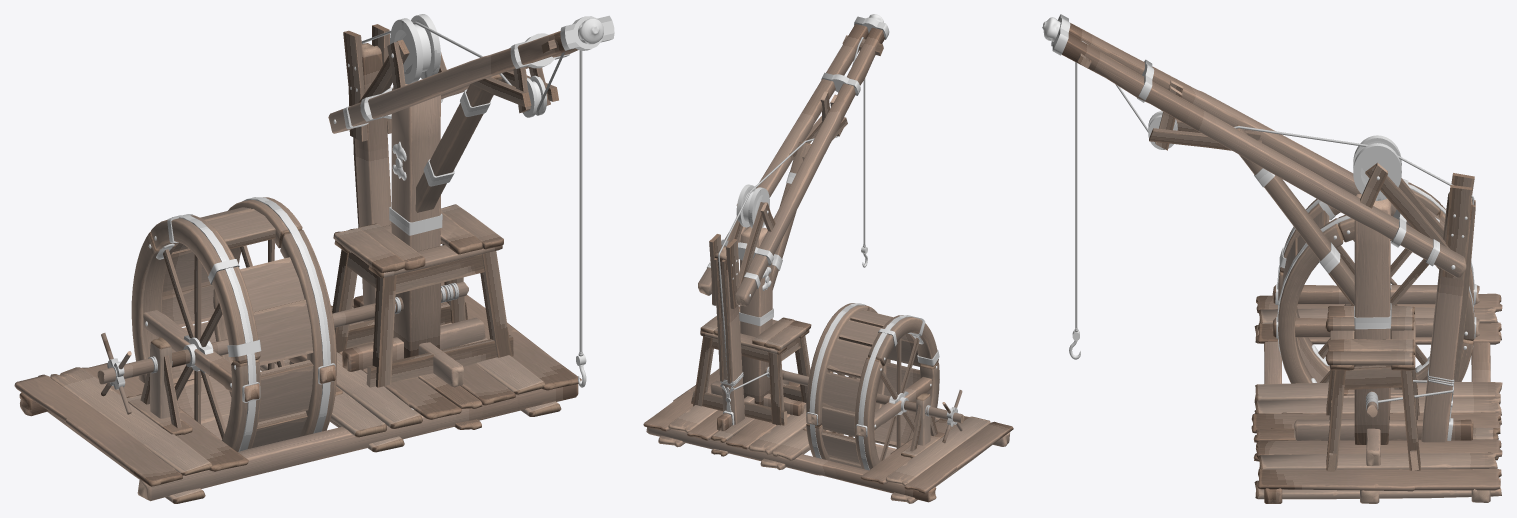
File: SM_Crane_01.fbx
3 views of the same model, side by side, from view 1: azimuth 30°, elevation 25°; view 2: azimuth 150°, elevation 25°; view 3: azimuth 270°, elevation 25° (orthographic). The views are drawn at different scales.
Visible parts, largest first — view 1: SM_Crane_01_LOD0; view 2: SM_Crane_01_LOD0; view 3: SM_Crane_01_LOD0.
Boxes of the visible parts, x1,y1,x2,y2 form: SM_Crane_01_LOD0: (14, 14, 614, 503); SM_Crane_01_LOD0: (643, 14, 1013, 503); SM_Crane_01_LOD0: (1042, 14, 1502, 503).
Bounding box in the file's own units: 761 × 774 × 889.
